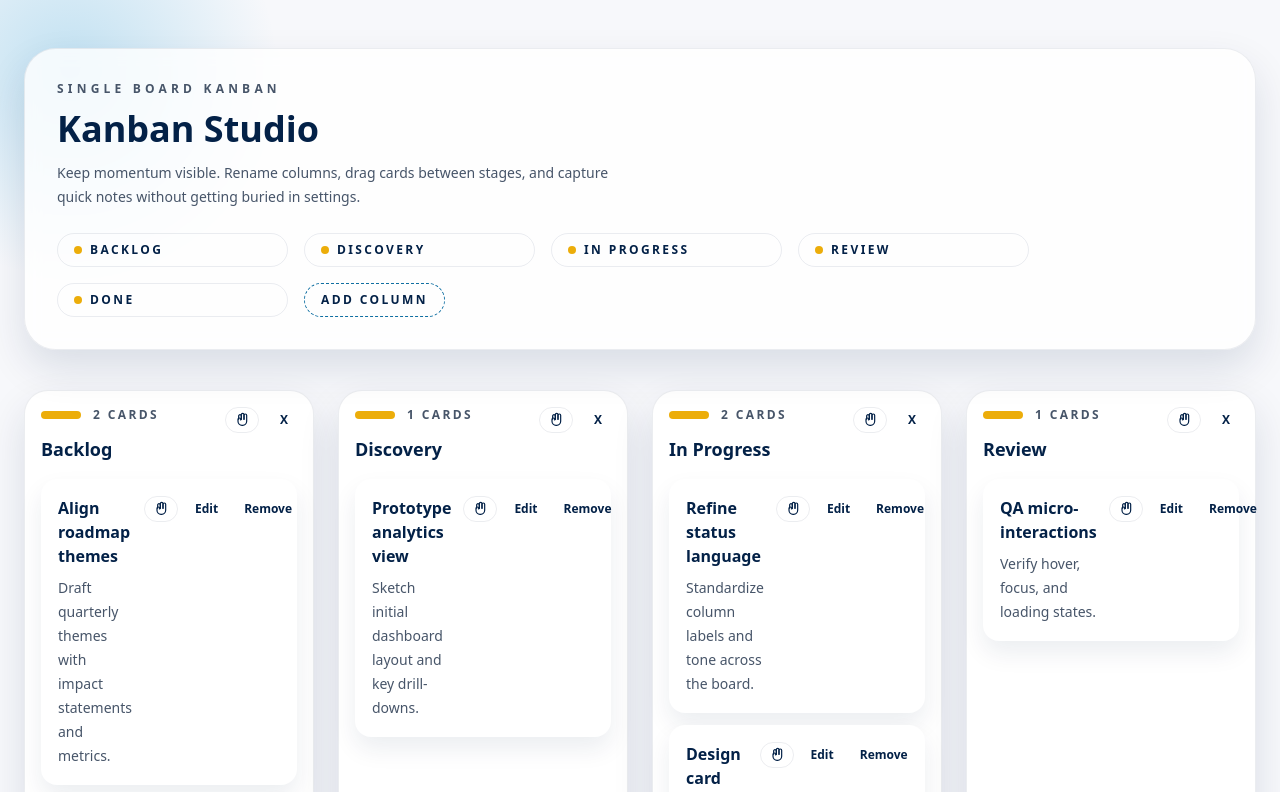
Test: KanbanBoard › deletes a column and removes its cards
Expected: the heading "Align roadmap themes" is shown, [58,496,132,568]
Step 1. Click the button named "delete column backlog" → (284, 420), box [271,407,297,433]
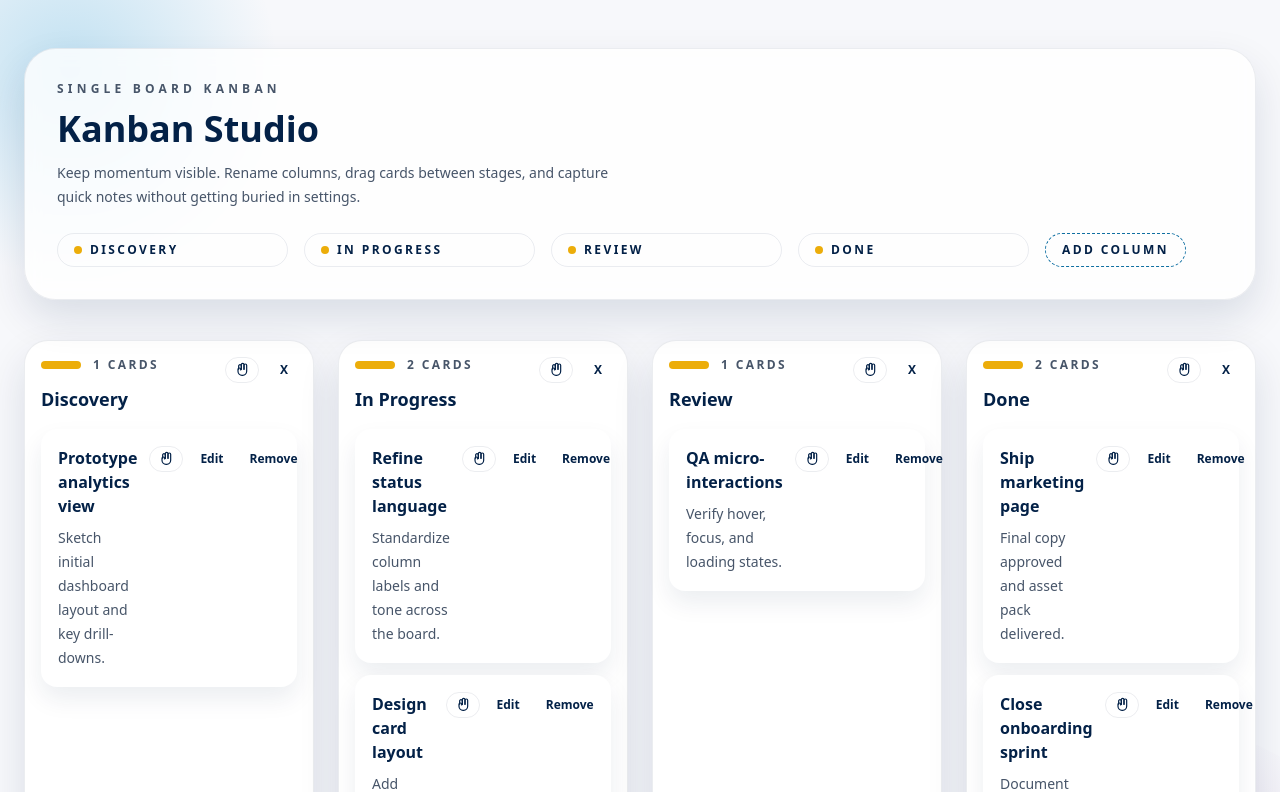
Now the heading "Align roadmap themes" is gone
